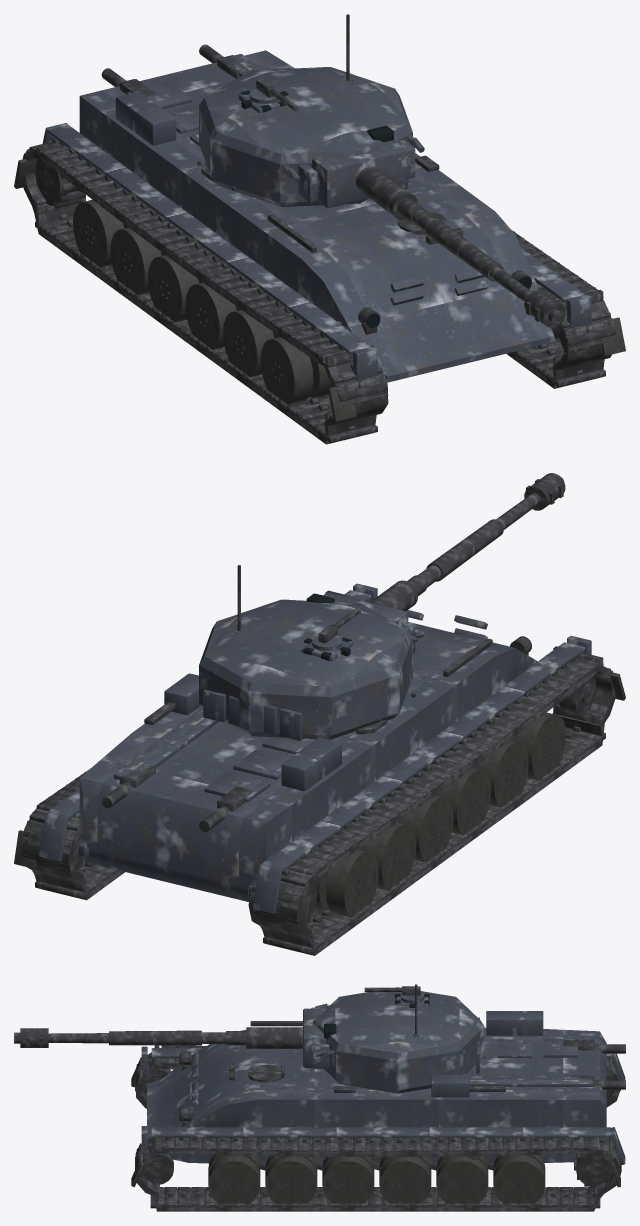
The picture shows the model from 3 angles, top to bottom: view 1: azimuth 30°, elevation 25°; view 2: azimuth 150°, elevation 25°; view 3: azimuth 270°, elevation 25°; orthographic projection. The views are drawn at different scales.
Visible parts, largest first — view 1: ht, ht_turret, ht_hull_details, ht_link1, ht_track1, ht_turret_armor, ht_gun, ht_link-1, ht_wheel1_5, ht_hull_metal, ht_track-1, ht_wheel1_4 (+8 smaller); view 2: ht, ht_turret, ht_hull_details, ht_link1, ht_track1, ht_turret_armor, ht_gun, ht_wheel1_0, ht_hull_metal, ht_link-1, ht_track-1, ht_wheel1_1 (+8 smaller); view 3: ht, ht_turret, ht_hull_details, ht_link-1, ht_track-1, ht_gun, ht_wheel-1_0, ht_wheel-1_5, ht_hull_metal, ht_wheel-1_1, ht_wheel-1_4, ht_wheel-1_2 (+10 smaller).
Part boxes in pixels (<box>): ht: <box>79,50,555,382</box>; ht_turret: <box>199,67,412,207</box>; ht_hull_details: <box>42,54,591,380</box>; ht_link1: <box>24,138,388,443</box>; ht_track1: <box>23,148,388,444</box>; ht_turret_armor: <box>238,88,424,207</box>; ht_gun: <box>355,166,531,301</box>; ht_link-1: <box>512,230,616,387</box>; ht_wheel1_5: <box>260,337,330,404</box>; ht_hull_metal: <box>101,44,463,252</box>; ht_track-1: <box>506,234,615,388</box>; ht_wheel1_4: <box>223,310,279,377</box>; ht: <box>79,622,537,901</box>; ht_turret: <box>199,599,412,739</box>; ht_hull_details: <box>39,583,591,913</box>; ht_link1: <box>249,646,615,954</box>; ht_track1: <box>248,664,616,955</box>; ht_turret_armor: <box>203,592,424,740</box>; ht_gun: <box>369,493,540,611</box>; ht_wheel1_0: <box>314,849,378,917</box>; ht_hull_metal: <box>101,601,492,831</box>; ht_link-1: <box>21,590,343,898</box>; ht_track-1: <box>20,775,124,900</box>; ht_wheel1_1: <box>359,822,416,890</box>; ht: <box>147,1027,606,1163</box>; ht_turret: <box>313,987,484,1093</box>; ht_hull_details: <box>141,1011,625,1164</box>; ht_link-1: <box>135,1136,620,1208</box>; ht_track-1: <box>136,1137,621,1211</box>; ht_gun: <box>48,1027,302,1048</box>; ht_wheel-1_0: <box>493,1155,545,1204</box>; ht_wheel-1_5: <box>208,1155,260,1204</box>; ht_hull_metal: <box>229,1021,625,1092</box>; ht_wheel-1_1: <box>436,1156,488,1204</box>; ht_wheel-1_4: <box>265,1156,317,1204</box>; ht_wheel-1_2: <box>379,1156,431,1204</box>.
Size of the model in its own units: 410 by 348 by 985.
